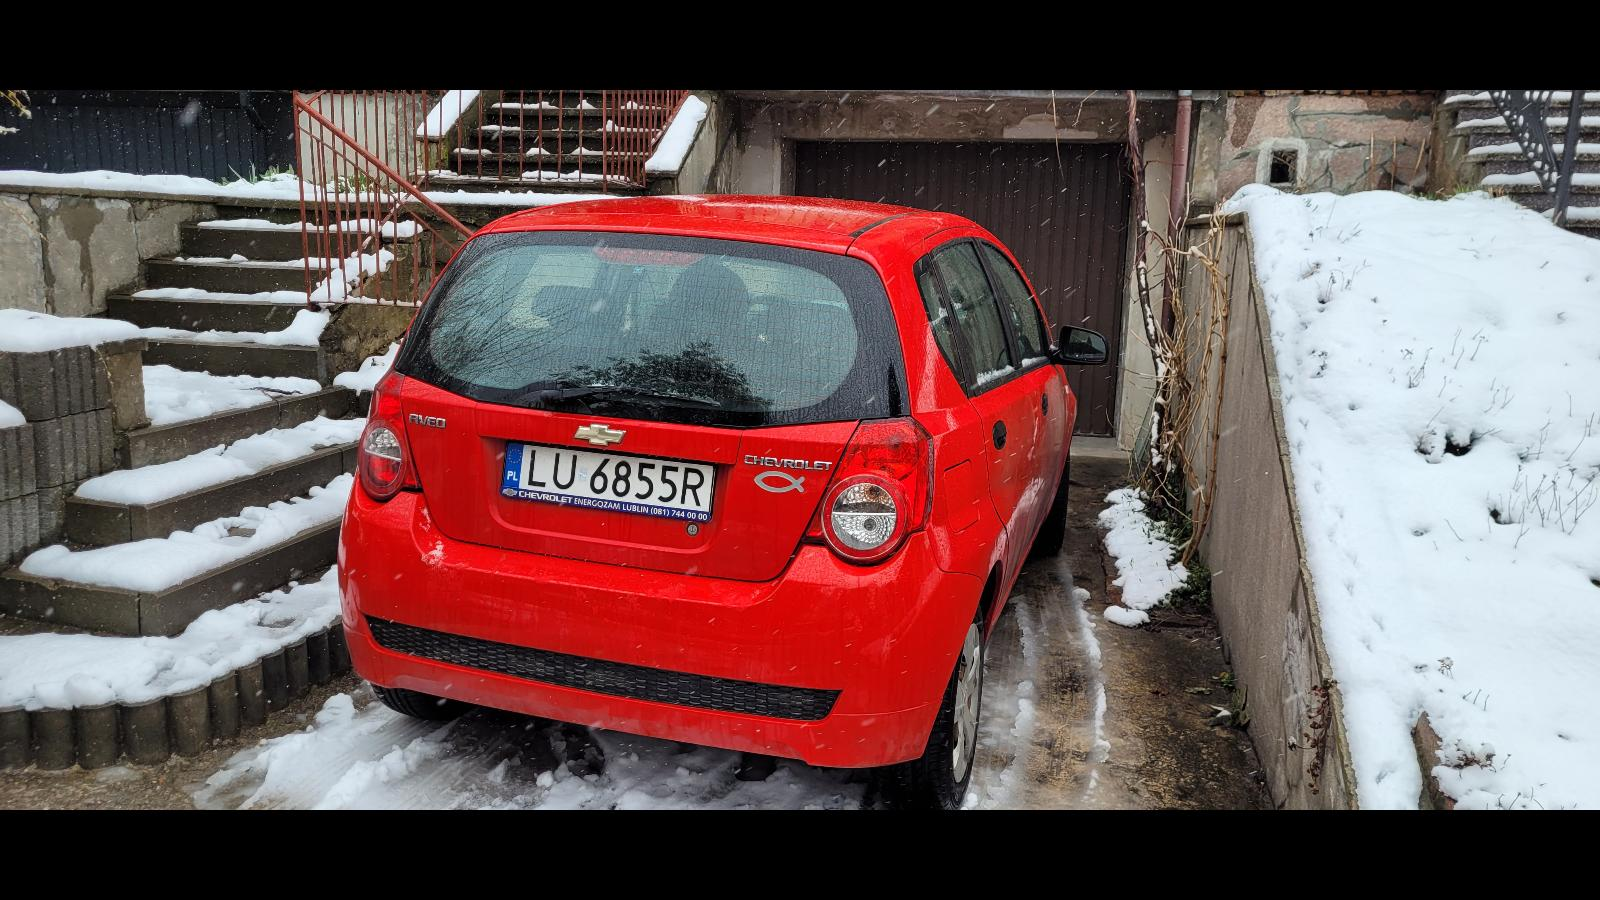plates: (500, 440, 718, 524)
